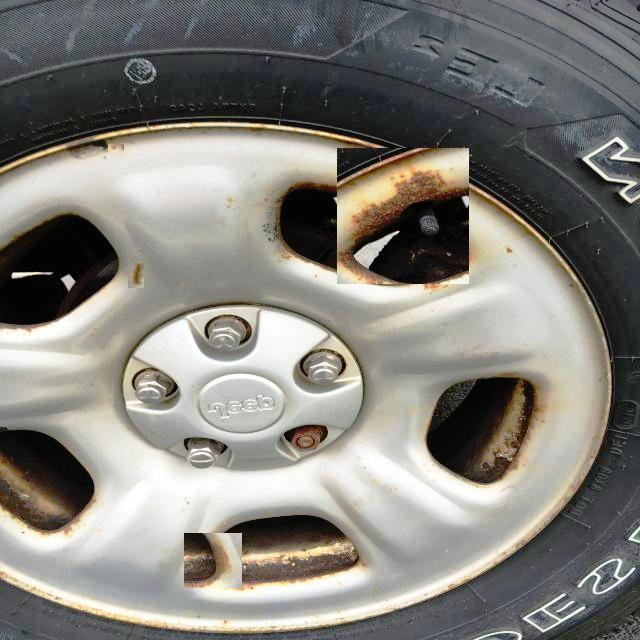Corrosion: (467, 381, 533, 484), (243, 540, 358, 584), (0, 459, 68, 532), (514, 381, 547, 472), (389, 185, 469, 214), (238, 573, 343, 592), (206, 535, 242, 582), (280, 239, 329, 272), (339, 254, 392, 284), (354, 206, 405, 234), (286, 426, 326, 452), (40, 518, 77, 538), (412, 171, 443, 194), (345, 559, 368, 582), (0, 323, 45, 334), (341, 235, 367, 254), (184, 578, 225, 590), (500, 455, 518, 480), (75, 497, 95, 516), (131, 263, 143, 287)
